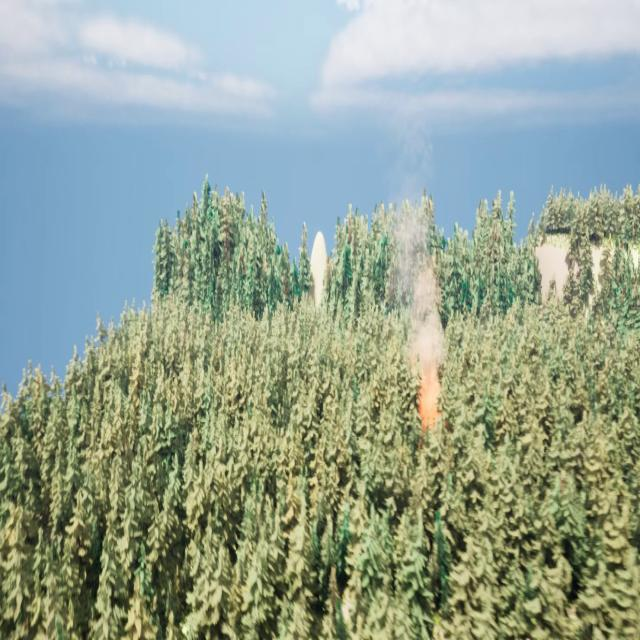smoke: (387, 150, 449, 430)
